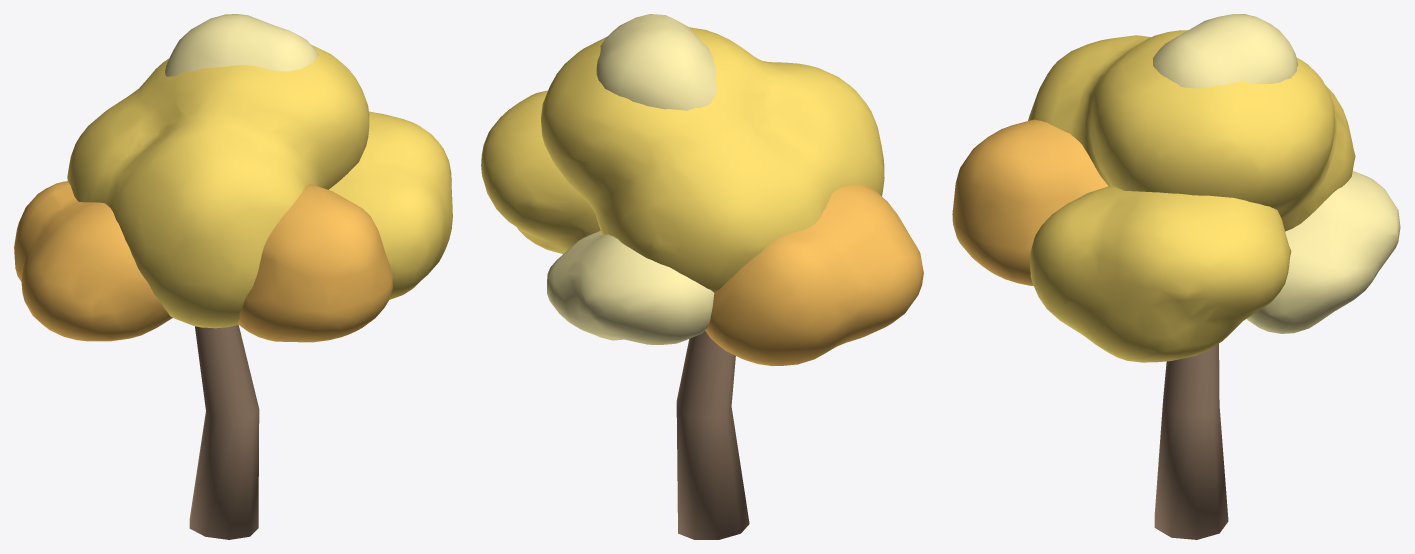
File: ginkgo_b.glb
3 renders of one model, left to right at view 1: azimuth 30°, elevation 25°; view 2: azimuth 150°, elevation 25°; view 3: azimuth 270°, elevation 25°, orthographic. The views are drawn at different scales.
Visible parts, largest first — view 1: Crown0, Crown4, Crown1, Crown2, Trunk, Crown5; view 2: Crown0, Crown1, Crown3, Trunk, Crown2, Crown5; view 3: Crown0, Crown2, Crown4, Crown3, Trunk, Crown5.
Boxes of the visible parts, x1,y1,x2,y2 form: Crown0: (67, 45, 369, 328); Crown4: (238, 184, 392, 342); Crown1: (14, 181, 172, 341); Crown2: (329, 111, 452, 299); Trunk: (189, 325, 259, 539); Crown5: (165, 14, 319, 76); Crown0: (541, 27, 884, 292); Crown1: (705, 184, 923, 366); Crown3: (547, 231, 714, 344); Trunk: (676, 331, 749, 539); Crown2: (481, 90, 600, 253); Crown5: (596, 14, 717, 110); Crown0: (1028, 30, 1355, 231); Crown2: (1030, 186, 1291, 362); Crown4: (952, 119, 1107, 285); Crown3: (1247, 171, 1400, 333); Trunk: (1154, 344, 1228, 539); Crown5: (1153, 14, 1297, 88).
Bounding box in the file's own units: 4.48 × 5.12 × 4.
